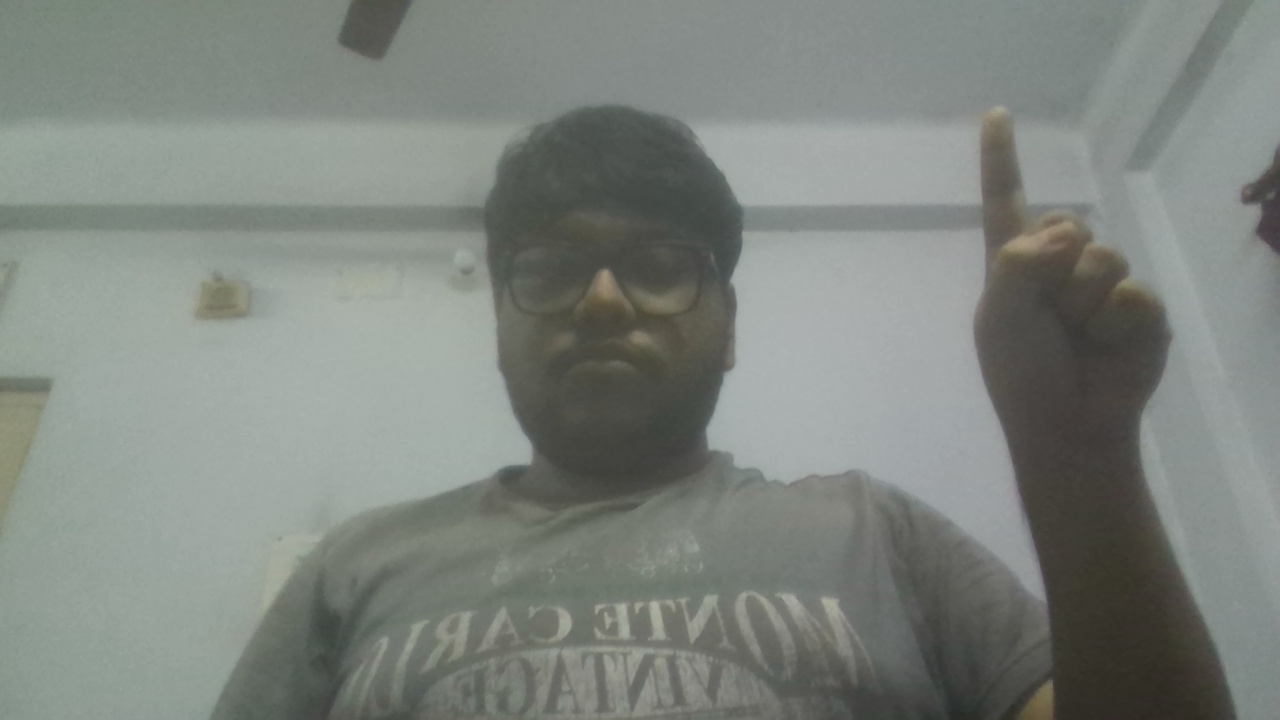Gesture1: (962, 97, 1184, 477)
